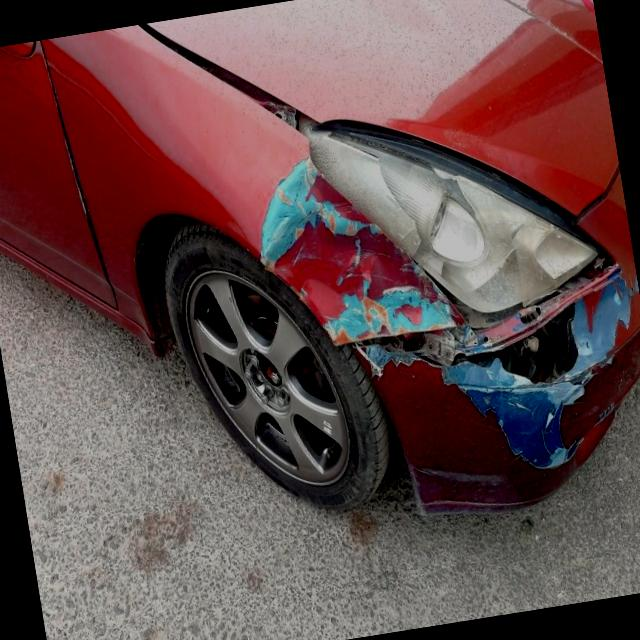Dechirure: (372, 295, 615, 410)
Phare abime: (317, 85, 622, 339)
